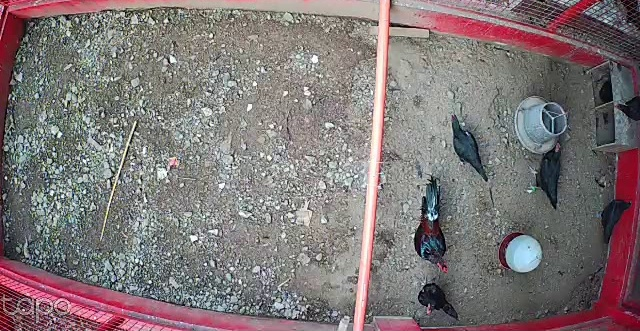Chicken: (440, 107, 491, 182), (528, 140, 562, 214), (415, 274, 462, 323), (597, 193, 634, 247)
Drinker: (496, 232, 544, 274)
Feeder: (514, 95, 567, 154)
Leg_Band_Green: (531, 185, 538, 193)
Rooster: (408, 169, 454, 276)
